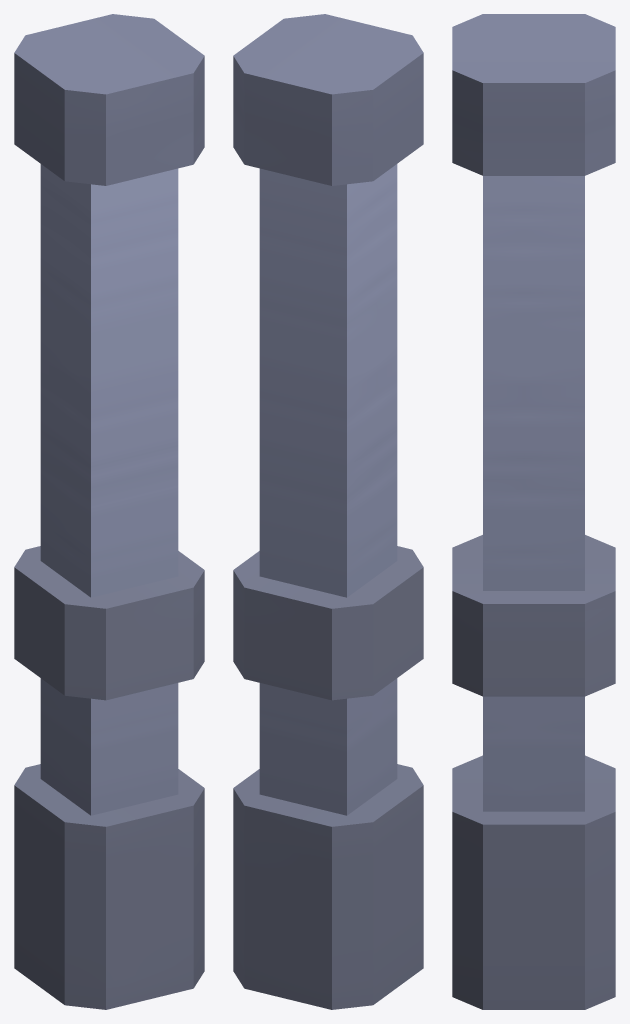
Rendered from pillarStone.fbx.
The picture shows the model from 3 angles, left to right: view 1: azimuth 30°, elevation 25°; view 2: azimuth 150°, elevation 25°; view 3: azimuth 270°, elevation 25°; orthographic projection.
Visible parts, largest first — view 1: pillarStone; view 2: pillarStone; view 3: pillarStone.
Boxes of the visible parts, x1,y1,x2,y2 form: pillarStone: (14,14,204,1009); pillarStone: (233,14,423,1009); pillarStone: (452,14,615,1009).
Bounding box in the file's own units: 0.16 × 0.16 × 1.
